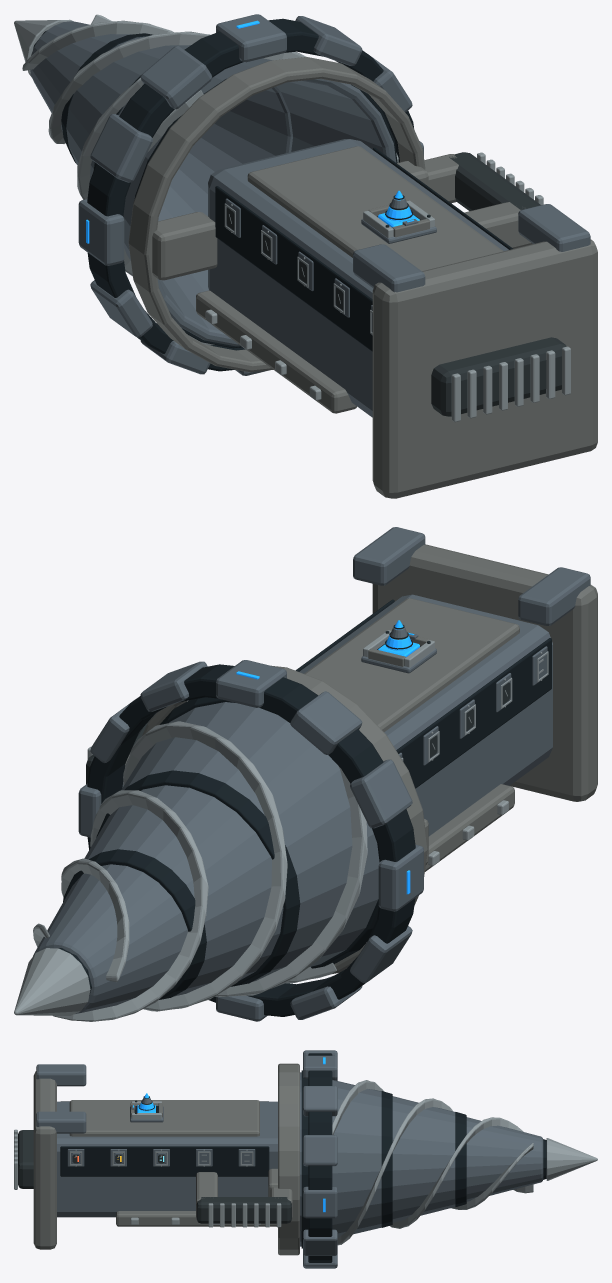
The model's file is HyperconeDrill.glb.
3 renders of one model, top to bottom at view 1: azimuth 30°, elevation 25°; view 2: azimuth 150°, elevation 25°; view 3: azimuth 270°, elevation 25°, orthographic. The views are drawn at different scales.
Parts seen in each view (by area): view 1: Hypercone_Rear_Brace_Crosspiece, Hypercone_Rear_Torsion_Spine, Hypercone_Rear_Head_Bulkhead, Hypercone_Spine_Top_Panel, Hypercone_Long_Taper_1, Hypercone_Long_Taper_0, Hypercone_Counter_Collar_Base, Hypercone_Side_Service_Inset_-1, Hypercone_Rear_Hold, Hypercone_Longitudinal_Torque_Rail_-1, Hypercone_Bulkhead_Torque_Junction_-1, Hypercone_Long_Taper_2 (+20 smaller); view 2: Hypercone_Long_Taper_0, Hypercone_Rear_Brace_Crosspiece, Hypercone_Long_Taper_1, Hypercone_Rear_Torsion_Spine, Hypercone_Long_Taper_2, Hypercone_Spine_Top_Panel, Hypercone_Counter_Collar_Base, Hypercone_Long_Cutting_Helix_0, Hypercone_Long_Cutting_Helix_1, Hypercone_Long_Cutting_Helix_2, Hypercone_Side_Service_Inset_-1, Hypercone_Taper_Recess_1 (+17 smaller); view 3: Hypercone_Rear_Torsion_Spine, Hypercone_Long_Taper_0, Hypercone_Long_Taper_1, Hypercone_Spine_Top_Panel, Hypercone_Side_Service_Inset_1, Hypercone_Long_Taper_2, Hypercone_Rear_Brace_Crosspiece, Hypercone_Rear_Head_Bulkhead, Hypercone_Counter_Collar_Base, Hypercone_Secondary_Hold, Hypercone_Taper_Recess_1, Hypercone_Longitudinal_Torque_Rail_1 (+15 smaller).
Boxes of the visible parts, bbox=[...] form: Hypercone_Rear_Brace_Crosspiece: bbox=[372, 239, 597, 498]; Hypercone_Rear_Torsion_Spine: bbox=[208, 139, 508, 417]; Hypercone_Rear_Head_Bulkhead: bbox=[128, 57, 425, 372]; Hypercone_Spine_Top_Panel: bbox=[247, 146, 503, 270]; Hypercone_Long_Taper_1: bbox=[66, 36, 292, 221]; Hypercone_Long_Taper_0: bbox=[118, 58, 396, 346]; Hypercone_Counter_Collar_Base: bbox=[87, 18, 413, 371]; Hypercone_Side_Service_Inset_-1: bbox=[215, 186, 372, 351]; Hypercone_Rear_Hold: bbox=[431, 337, 566, 416]; Hypercone_Longitudinal_Torque_Rail_-1: bbox=[196, 290, 356, 413]; Hypercone_Bulkhead_Torque_Junction_-1: bbox=[152, 212, 217, 280]; Hypercone_Long_Taper_2: bbox=[30, 21, 132, 131]; Hypercone_Long_Taper_0: bbox=[121, 702, 379, 981]; Hypercone_Rear_Brace_Crosspiece: bbox=[372, 544, 597, 801]; Hypercone_Long_Taper_1: bbox=[84, 785, 283, 996]; Hypercone_Rear_Torsion_Spine: bbox=[299, 594, 552, 836]; Hypercone_Long_Taper_2: bbox=[33, 864, 187, 1013]; Hypercone_Spine_Top_Panel: bbox=[304, 598, 519, 731]; Hypercone_Counter_Collar_Base: bbox=[87, 664, 415, 1016]; Hypercone_Long_Cutting_Helix_0: bbox=[33, 721, 287, 1011]; Hypercone_Long_Cutting_Helix_1: bbox=[61, 765, 367, 996]; Hypercone_Long_Cutting_Helix_2: bbox=[53, 790, 336, 1021]; Hypercone_Side_Service_Inset_-1: bbox=[396, 638, 551, 788]; Hypercone_Taper_Recess_1: bbox=[96, 770, 300, 986]; Hypercone_Rear_Torsion_Spine: bbox=[57, 1101, 277, 1217]; Hypercone_Long_Taper_0: bbox=[300, 1072, 381, 1246]; Hypercone_Long_Taper_1: bbox=[392, 1096, 455, 1222]; Hypercone_Spine_Top_Panel: bbox=[69, 1100, 259, 1136]; Hypercone_Side_Service_Inset_1: bbox=[60, 1146, 269, 1176]; Hypercone_Long_Taper_2: bbox=[466, 1117, 543, 1201]; Hypercone_Rear_Brace_Crosspiece: bbox=[33, 1071, 56, 1249]; Hypercone_Rear_Head_Bulkhead: bbox=[278, 1063, 299, 1255]; Hypercone_Counter_Collar_Base: bbox=[308, 1053, 332, 1262]; Hypercone_Secondary_Hold: bbox=[196, 1197, 291, 1223]; Hypercone_Taper_Recess_1: bbox=[381, 1091, 392, 1227]; Hypercone_Longitudinal_Torque_Rail_1: bbox=[116, 1211, 276, 1226].
Size of the model in its own units: 0.365 by 0.328 by 0.875.
